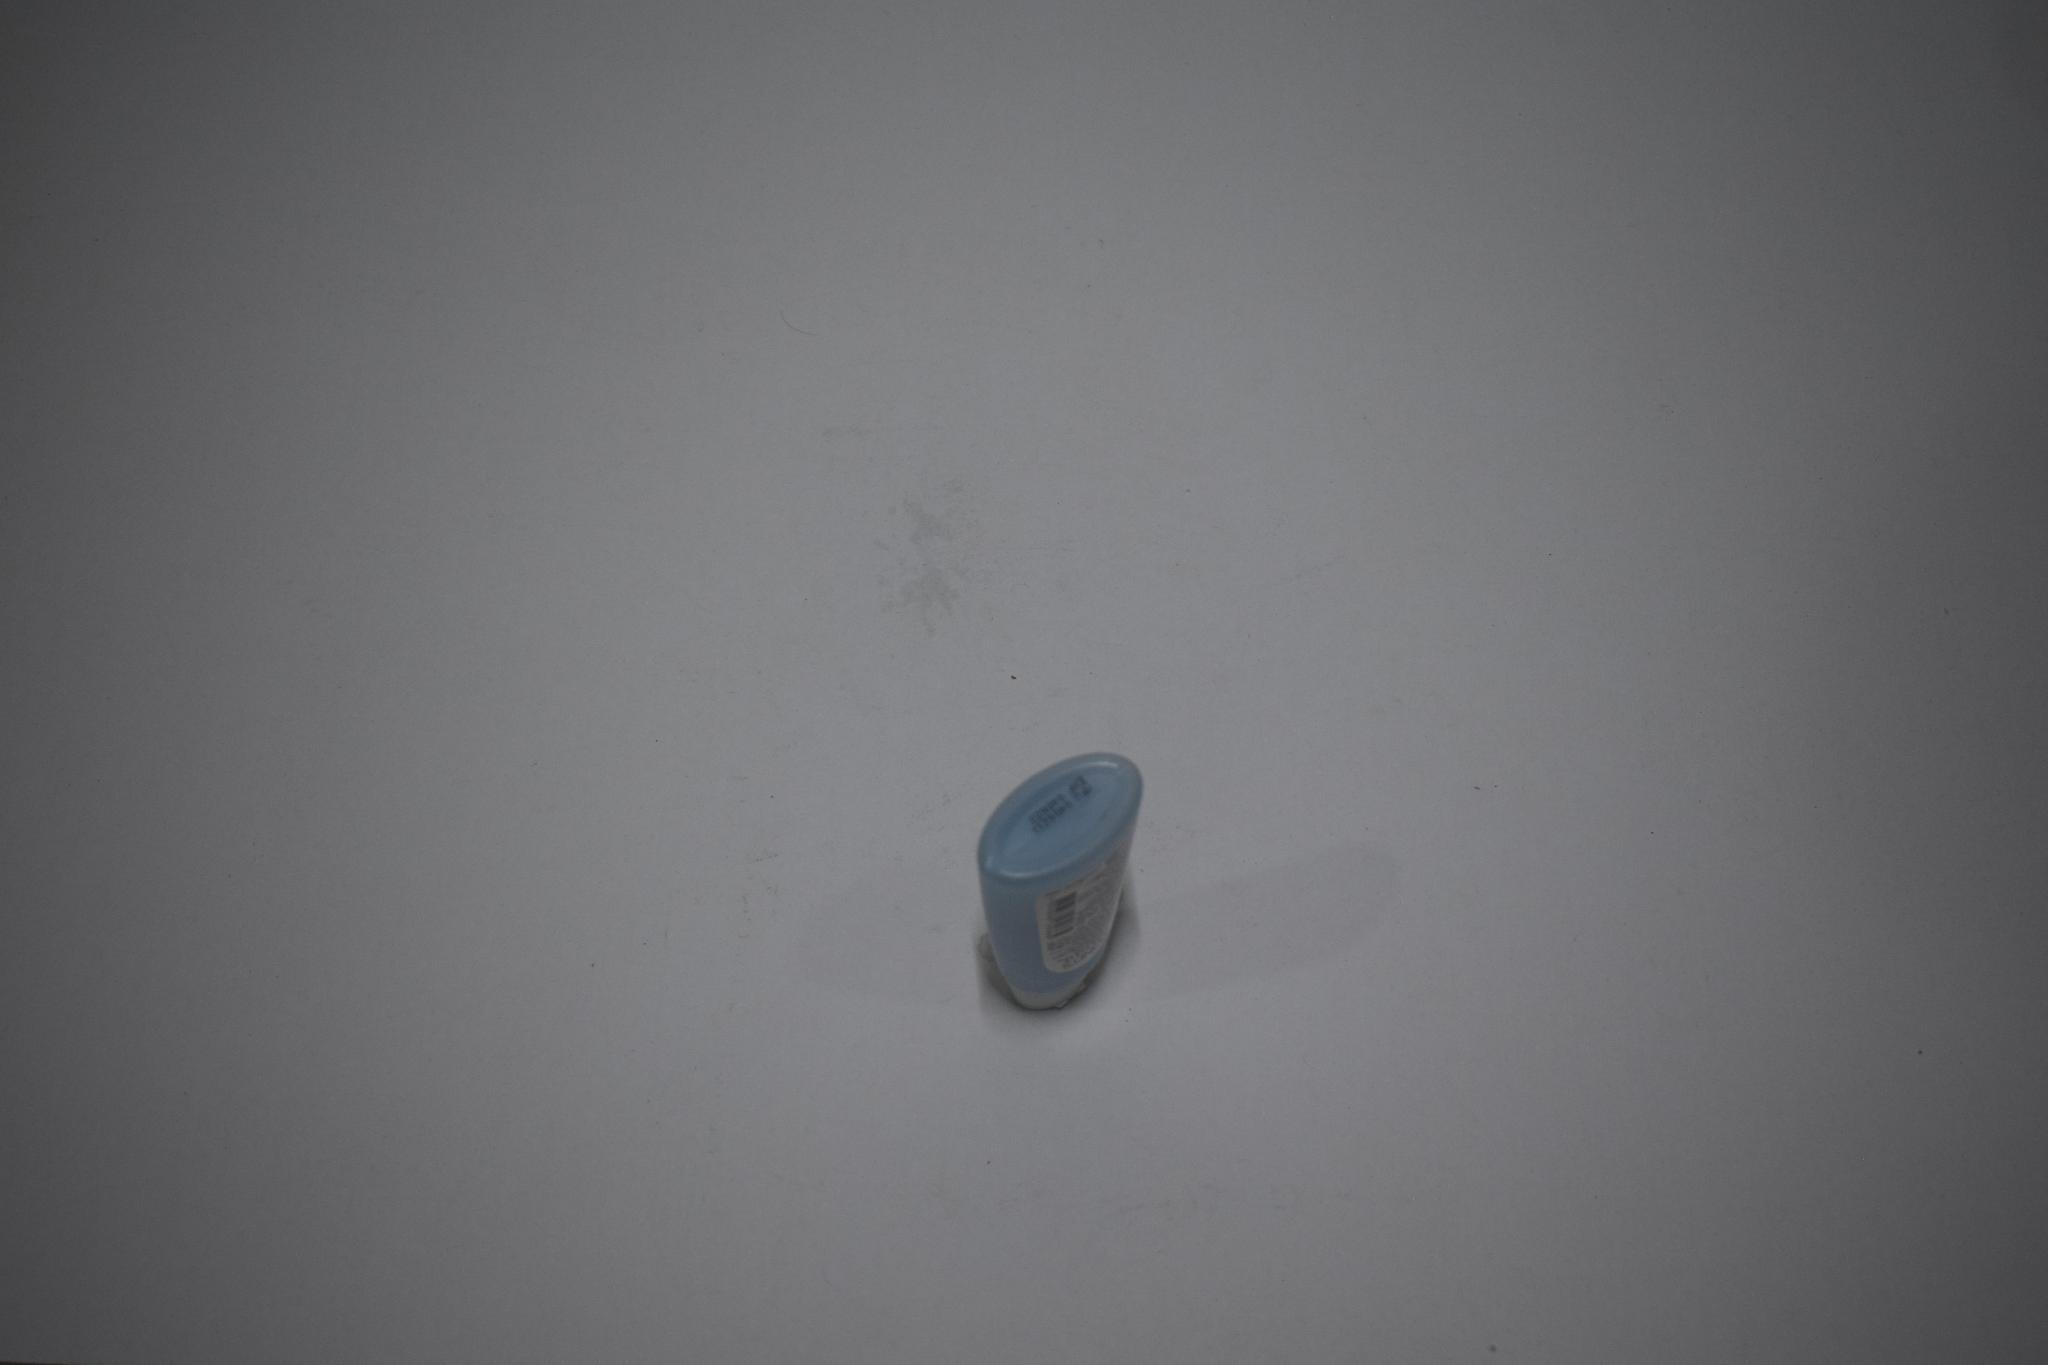bottle: (953, 748, 1169, 1022)
